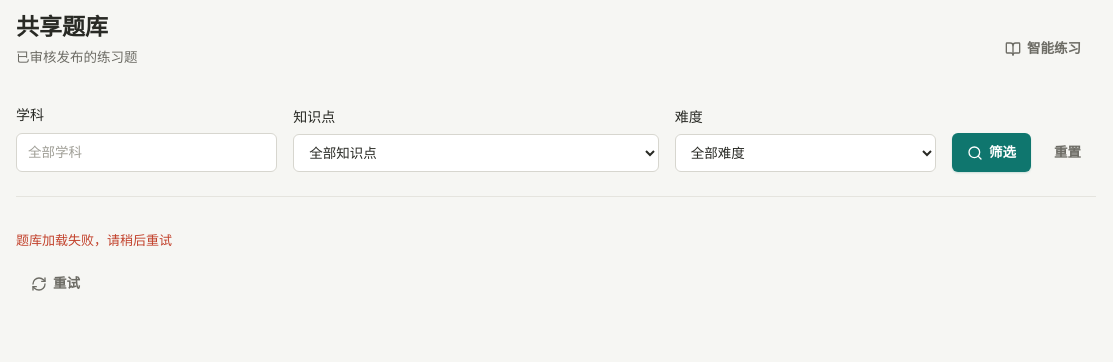
Test: 用户共享题库 › 区分空题库与请求失败，失败可以重试
Check: the message "题库加载失败，请稍后重试 重试" is shown, box [16,231,172,304]
Check: the text "暂无符合" is not shown
Click the button "重试" at (56, 284), box [16,264,95,304]
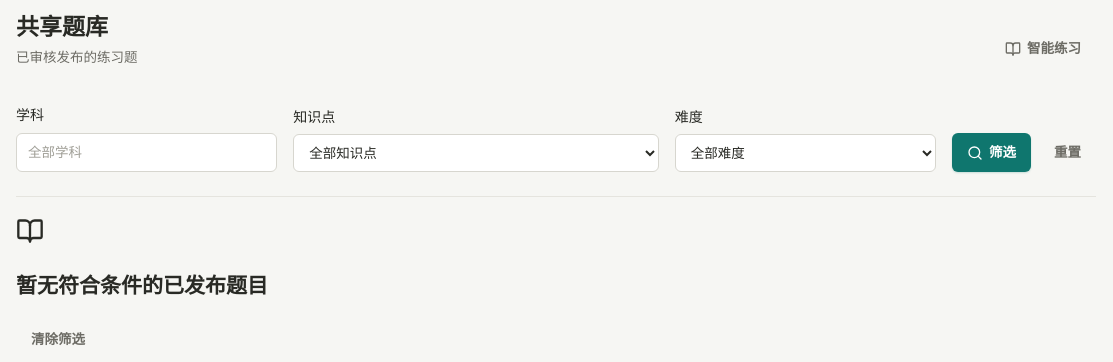
Check: the text "暂无符合条件的已发布题目" is shown, box [16,271,268,299]
